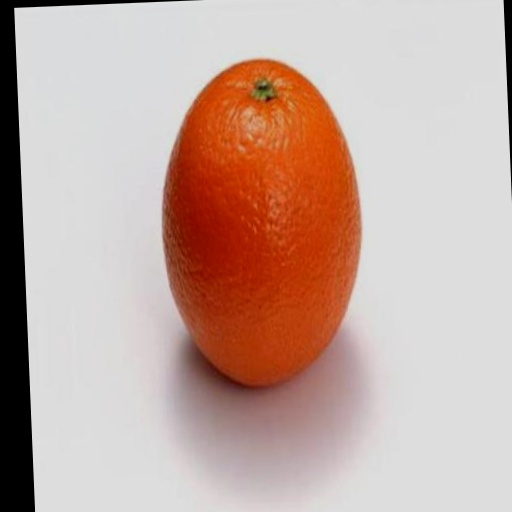fruit: (162, 61, 360, 385)
